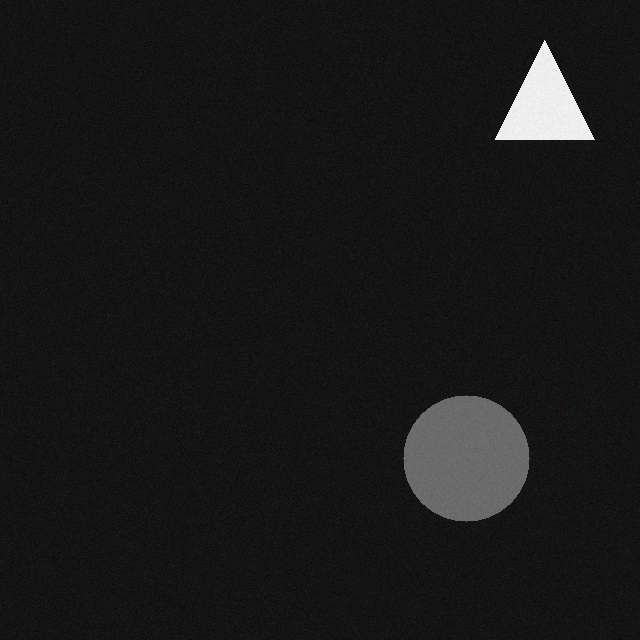circle: (390, 380, 516, 506)
triangle: (482, 25, 581, 124)
